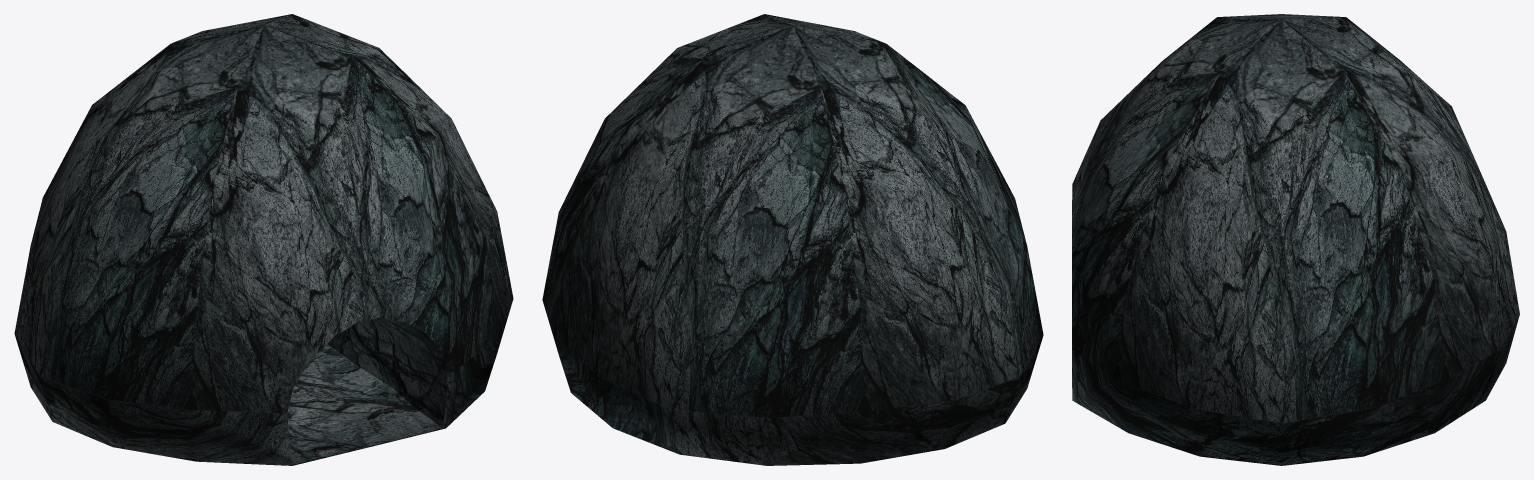
Rendered from CUEVA.fbx.
The picture shows the model from 3 angles, left to right: view 1: azimuth 30°, elevation 25°; view 2: azimuth 150°, elevation 25°; view 3: azimuth 270°, elevation 25°; orthographic projection.
Parts seen in each view (by area): view 1: Pyramid002; view 2: Pyramid002; view 3: Pyramid002.
Part boxes in pixels (left/top/right/bottom): Pyramid002: left=14, top=14, right=513, bottom=465; Pyramid002: left=542, top=14, right=1043, bottom=465; Pyramid002: left=1072, top=14, right=1519, bottom=465.
Bounding box in the file's own units: 5558 × 4085 × 4824.
